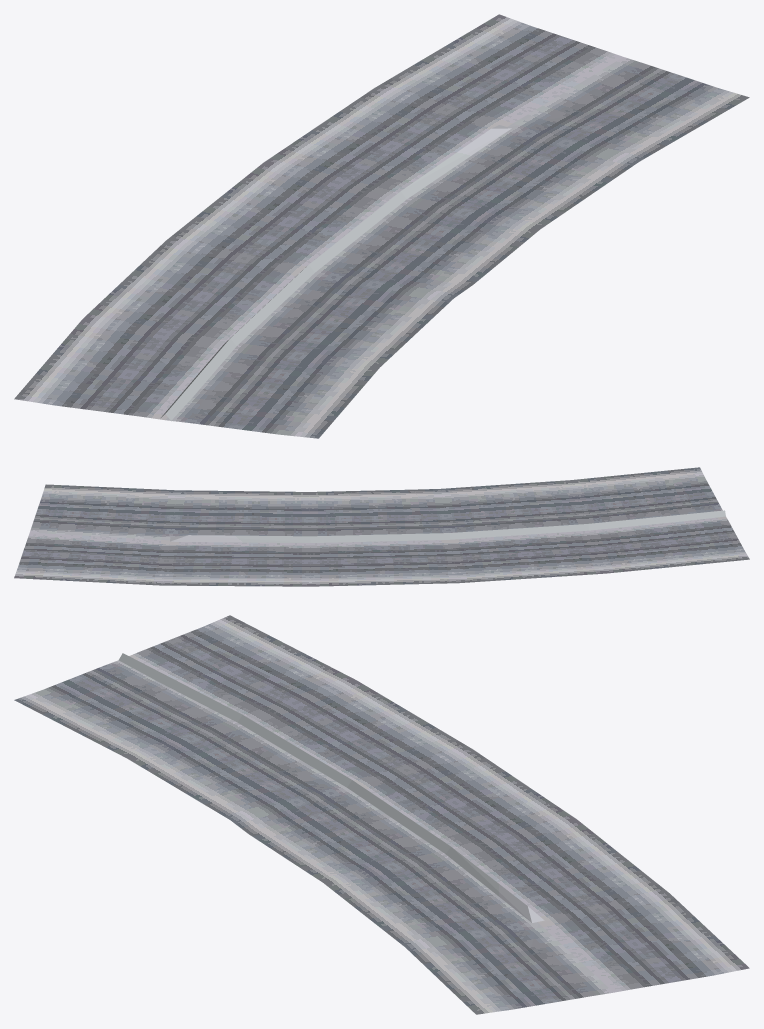
File: lodasnroad096b.obj
The picture shows the model from 3 angles, top to bottom: view 1: azimuth 30°, elevation 25°; view 2: azimuth 150°, elevation 25°; view 3: azimuth 270°, elevation 25°; orthographic projection. The views are drawn at different scales.
Parts seen in each view (by area): view 1: lodasNroad096b; view 2: lodasNroad096b; view 3: lodasNroad096b.
Boxes of the visible parts, <box> form: lodasNroad096b: <box>14,14,749,438</box>; lodasNroad096b: <box>14,467,749,586</box>; lodasNroad096b: <box>14,615,749,1014</box>.
Size of the model in its own units: 126 by 2.24 by 99.96.
1 material, 1 textured.
